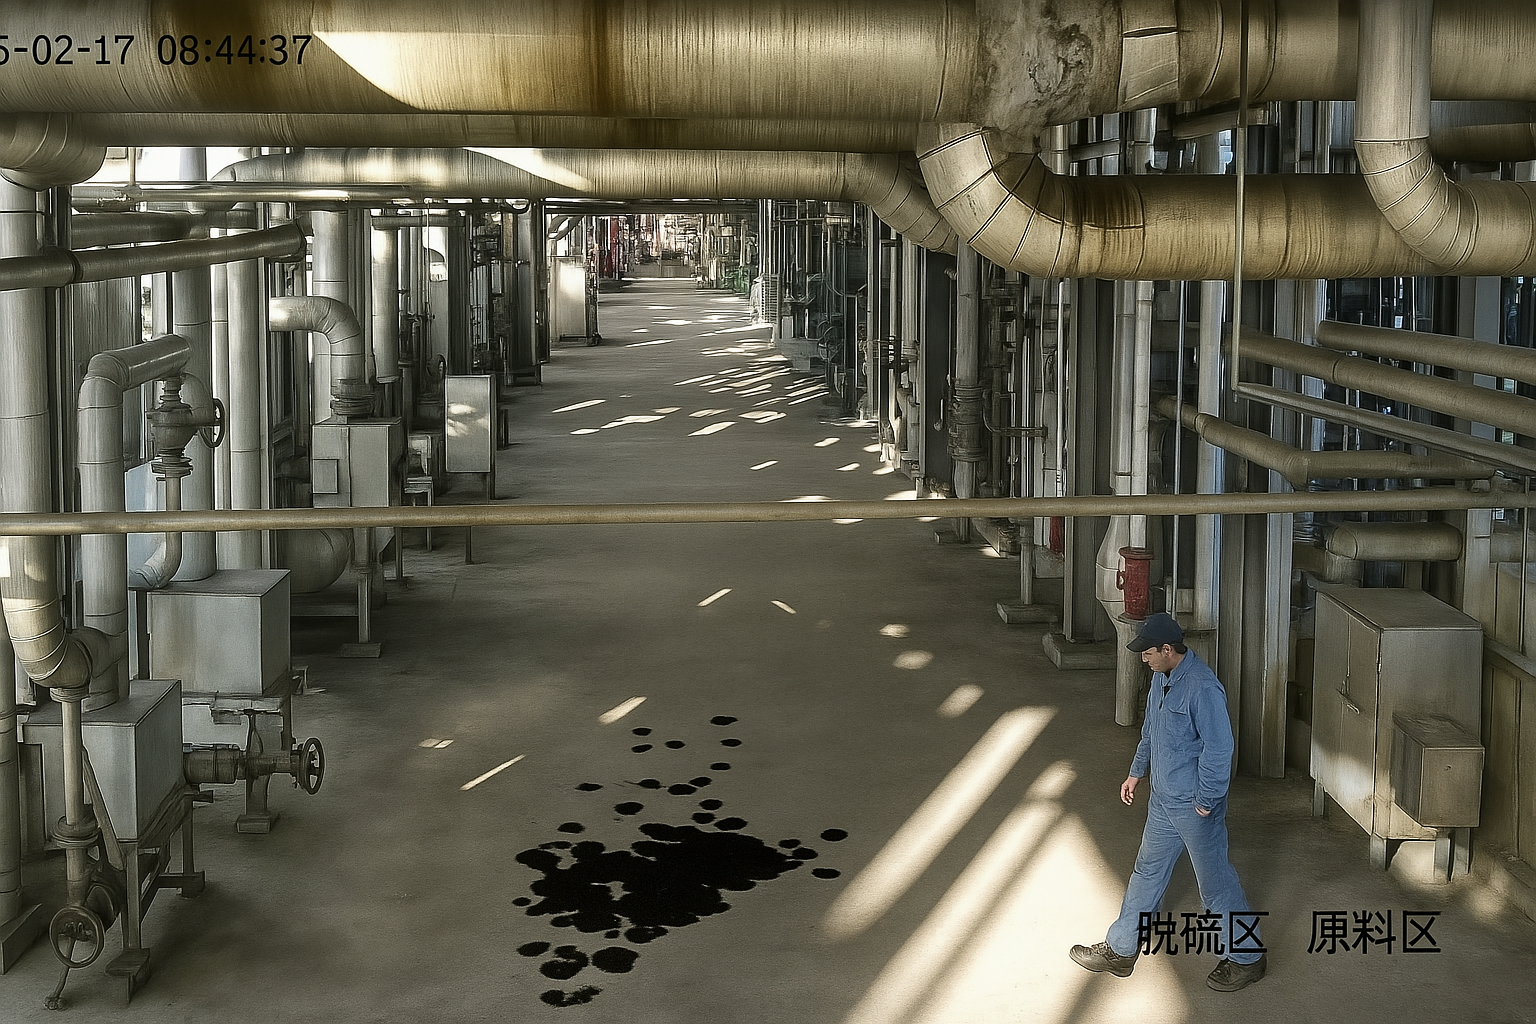oil_leakage: (486, 699, 888, 1015)
